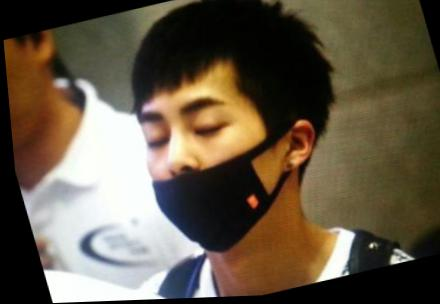WRONG: (115, 81, 295, 254)
